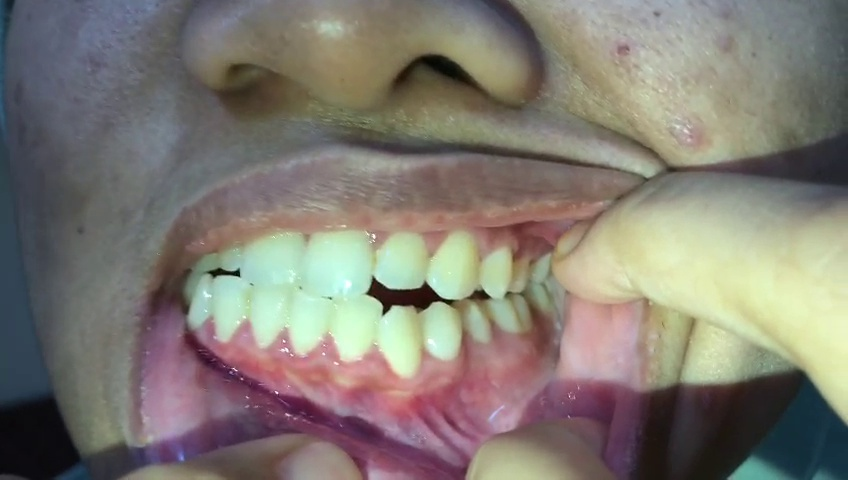1st Molar: (485, 294, 523, 340), (531, 248, 553, 283)
1st Premolar: (418, 300, 466, 363), (480, 242, 511, 298)
2nd Molar: (510, 292, 533, 333)
2nd Premolar: (456, 299, 491, 343), (510, 248, 532, 292)
3rd Molar: (530, 285, 551, 324)
Canine: (427, 229, 479, 302), (380, 302, 420, 379), (183, 277, 216, 333)
Central Incisor: (302, 221, 376, 300), (237, 218, 301, 290), (250, 284, 287, 352), (290, 290, 327, 358)
Lateral Incisor: (327, 288, 381, 364), (376, 225, 429, 291), (210, 276, 249, 346)
